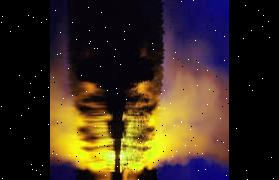fire: (121, 107, 154, 175)
